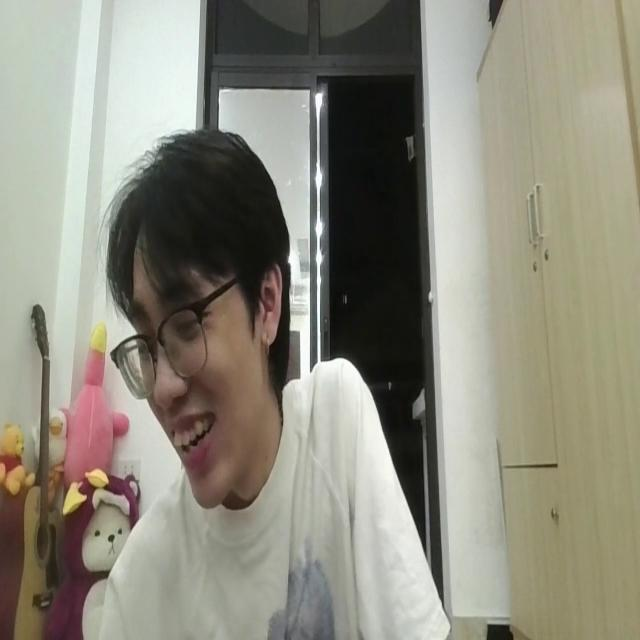student: (94, 126, 455, 640)
